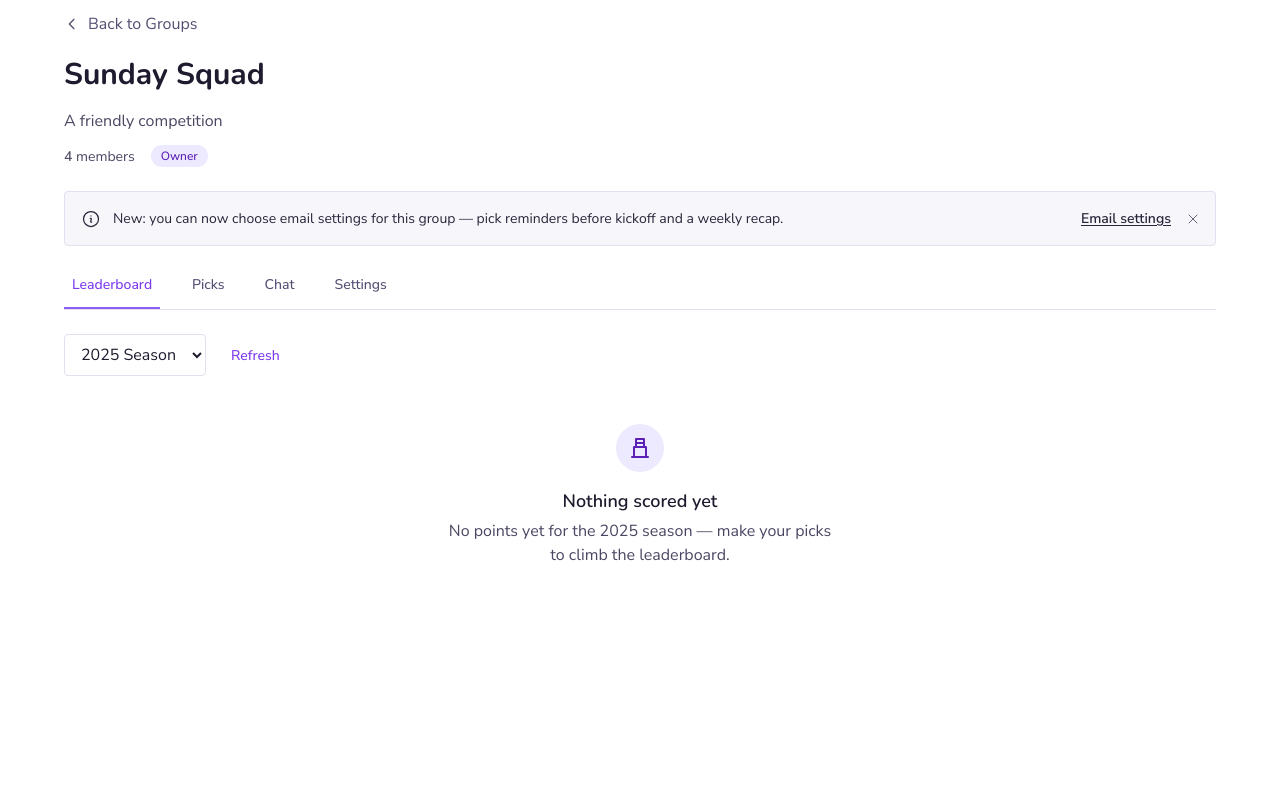
Scenario: GroupDetailsPage › shows the Owner badge for an admin and switches between tab bodies
Expected: the heading "Sunday Squad" is shown, left=64, top=54, right=265, bottom=95
Expected: the text "Owner" is shown, left=151, top=145, right=208, bottom=167
Click the tab "Picks": (208, 292) left=184, top=274, right=233, bottom=309
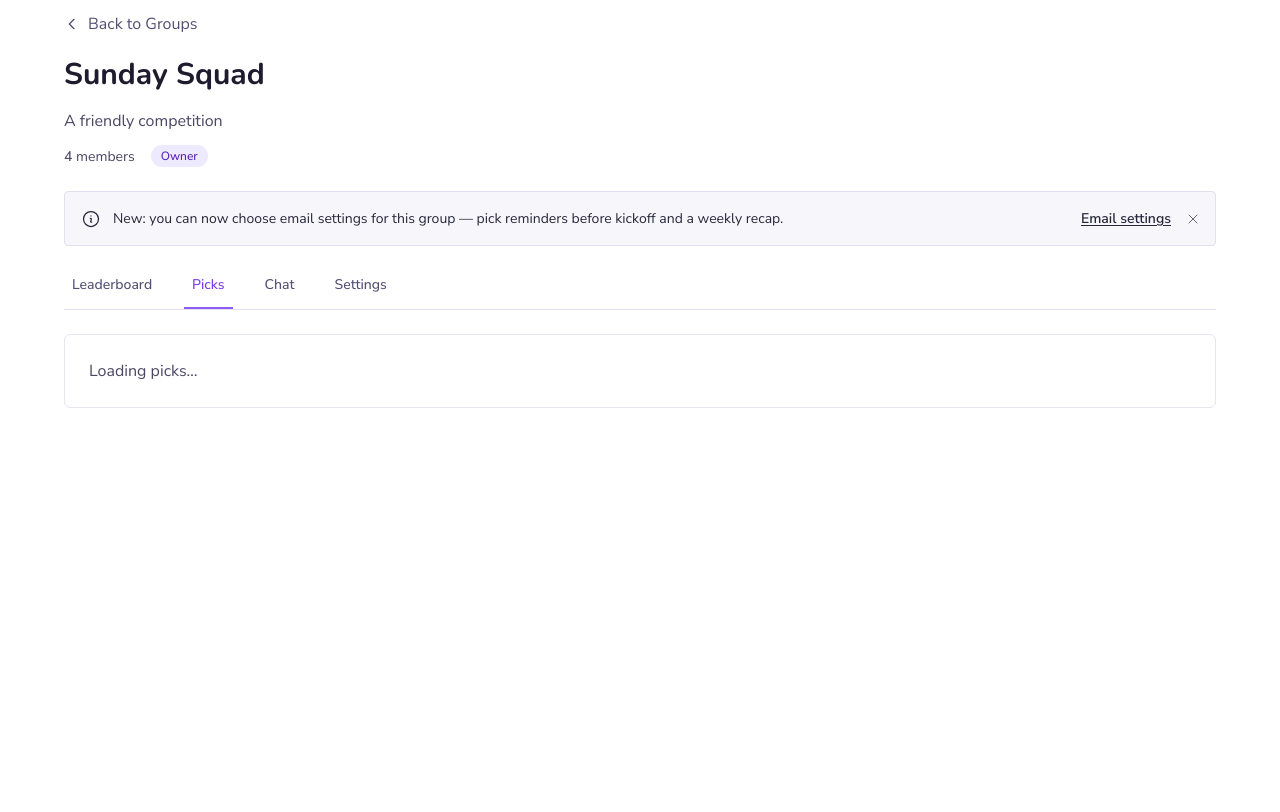
Now the text "Loading picks…" is shown, box left=89, top=360, right=198, bottom=382
Click the tab "Chat": (280, 292) left=257, top=274, right=302, bottom=309
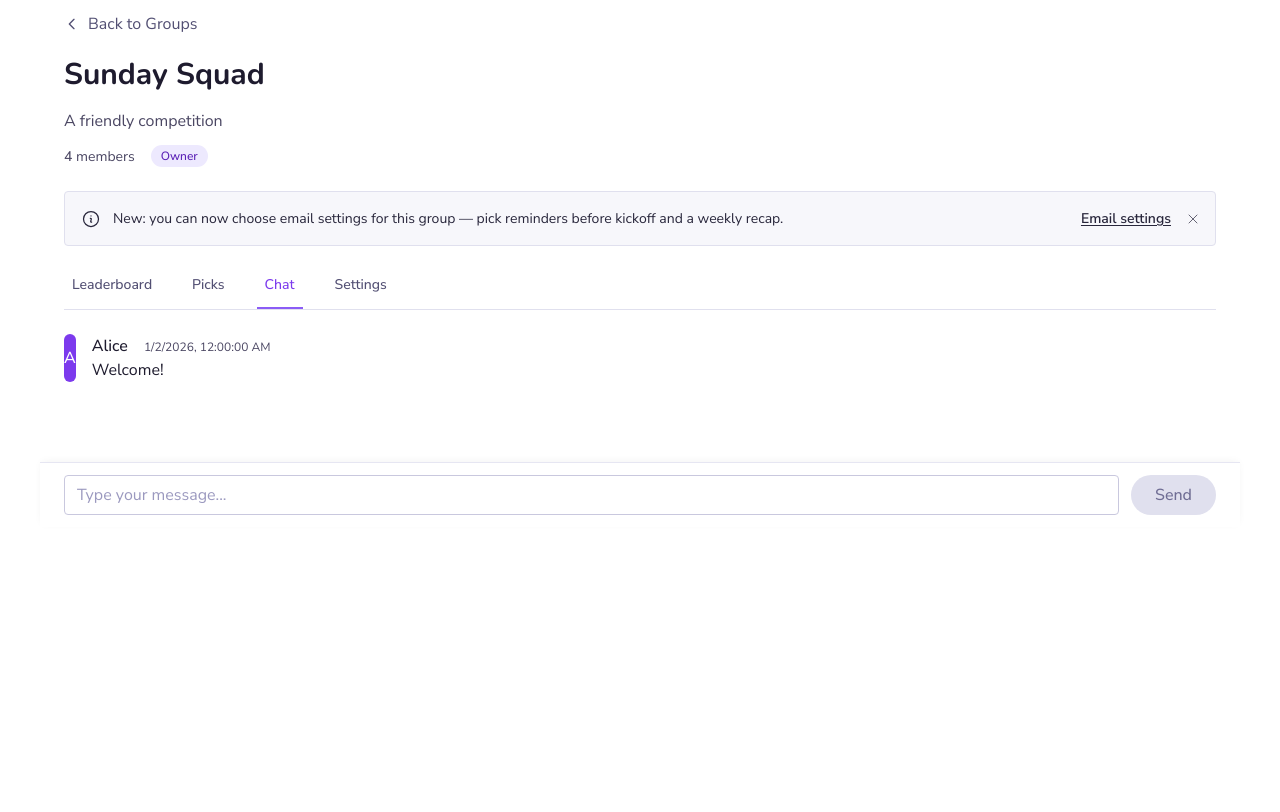
Now the text "Welcome!" is shown, box left=92, top=359, right=164, bottom=381
Click the tab "Settings": (361, 292) left=326, top=274, right=395, bottom=309
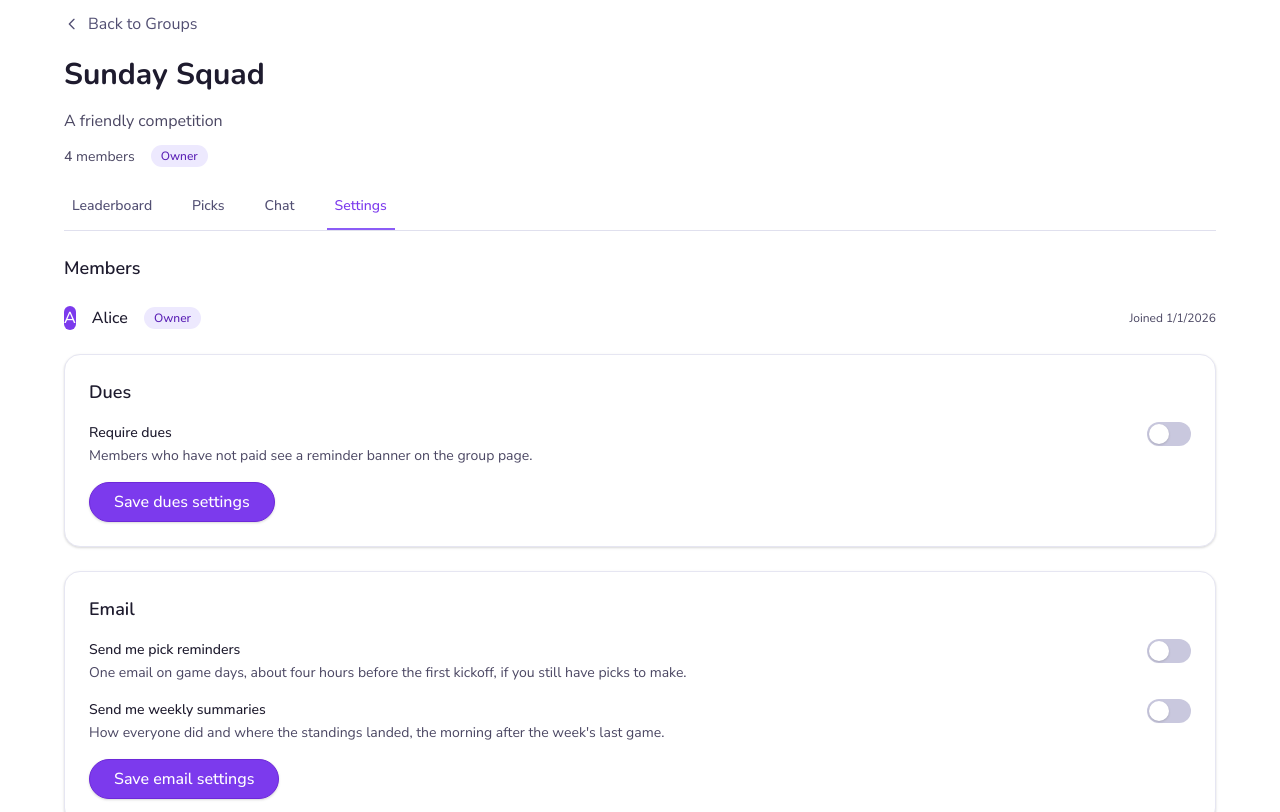
Now the heading "Members" is shown, box left=64, top=256, right=140, bottom=280
